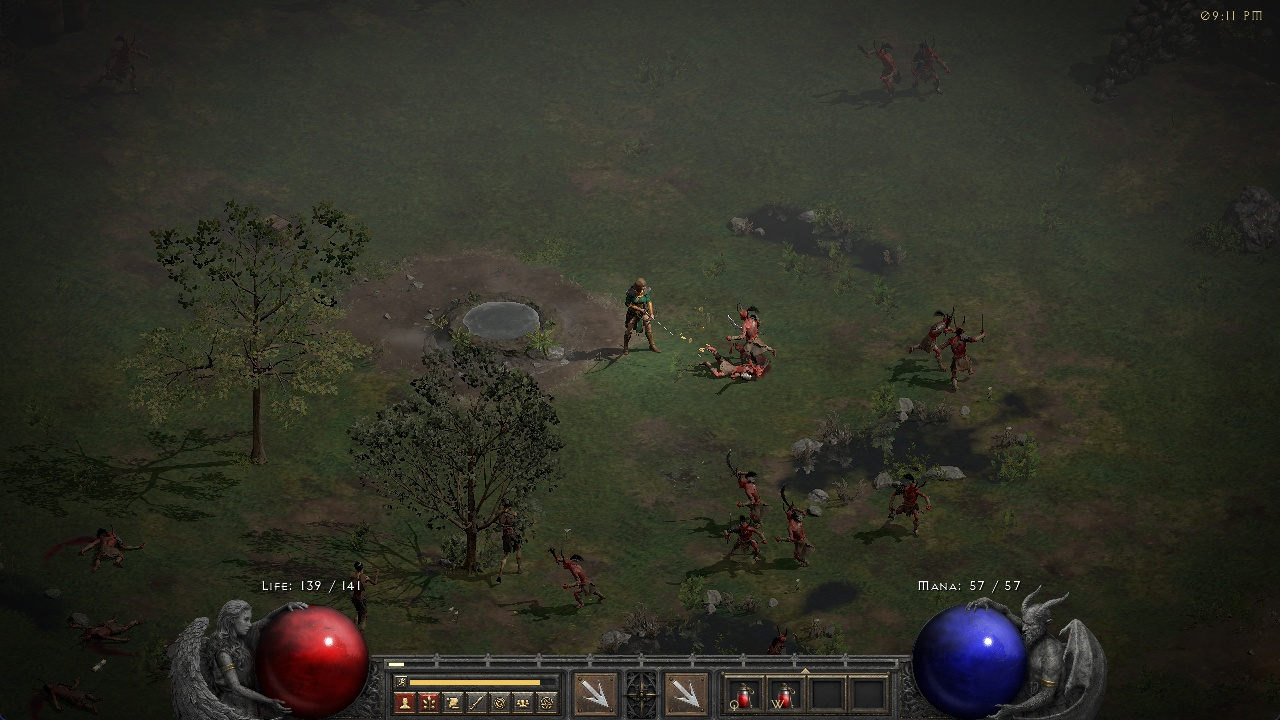fallen: (93, 34, 158, 96), (724, 302, 789, 356), (882, 474, 937, 532), (866, 41, 910, 108), (778, 499, 818, 571), (717, 460, 771, 512), (942, 318, 989, 377), (914, 40, 953, 102), (557, 551, 596, 612), (721, 515, 768, 561), (912, 305, 948, 353)
